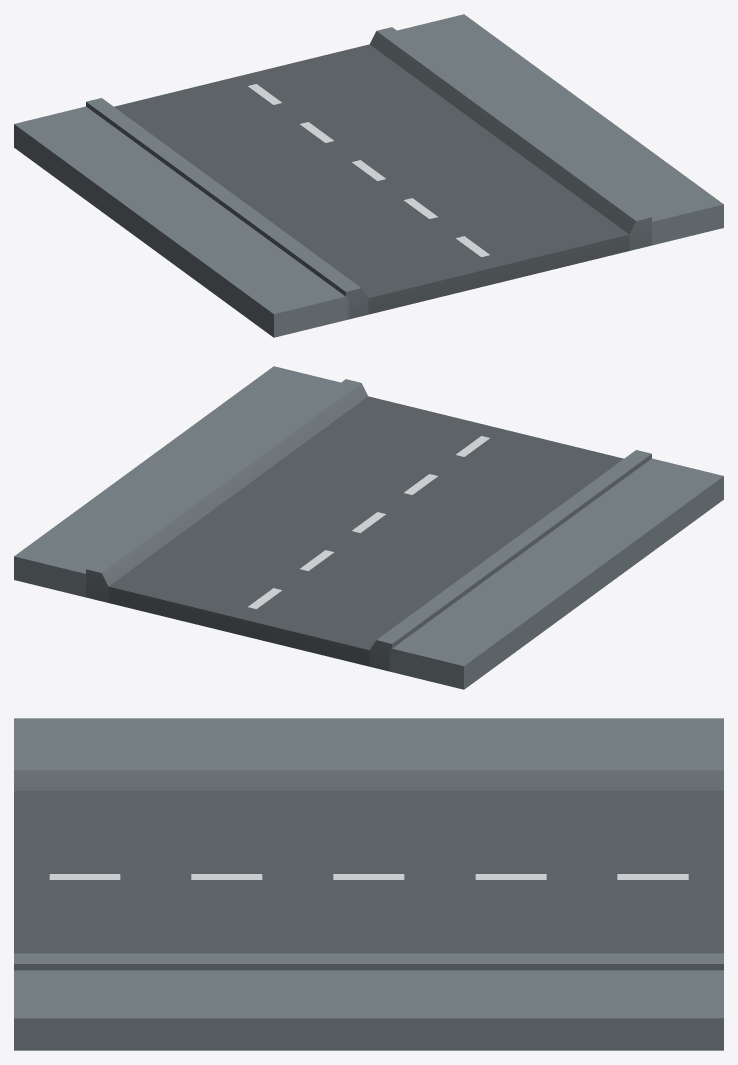
Rendered from road_narrow_straight.glb.
3 renders of one model, top to bottom at view 1: azimuth 30°, elevation 25°; view 2: azimuth 150°, elevation 25°; view 3: azimuth 270°, elevation 25°, orthographic. The views are drawn at different scales.
Visible parts, largest first — view 1: road_narrow_straight; view 2: road_narrow_straight; view 3: road_narrow_straight.
Boxes of the visible parts, x1,y1,x2,y2 form: road_narrow_straight: [14, 14, 723, 337]; road_narrow_straight: [14, 366, 723, 689]; road_narrow_straight: [14, 718, 723, 1050].
Size of what is drawn, in the model's own units: 10 by 0.6 by 10.
Materials: 1 (1 with a texture image).
